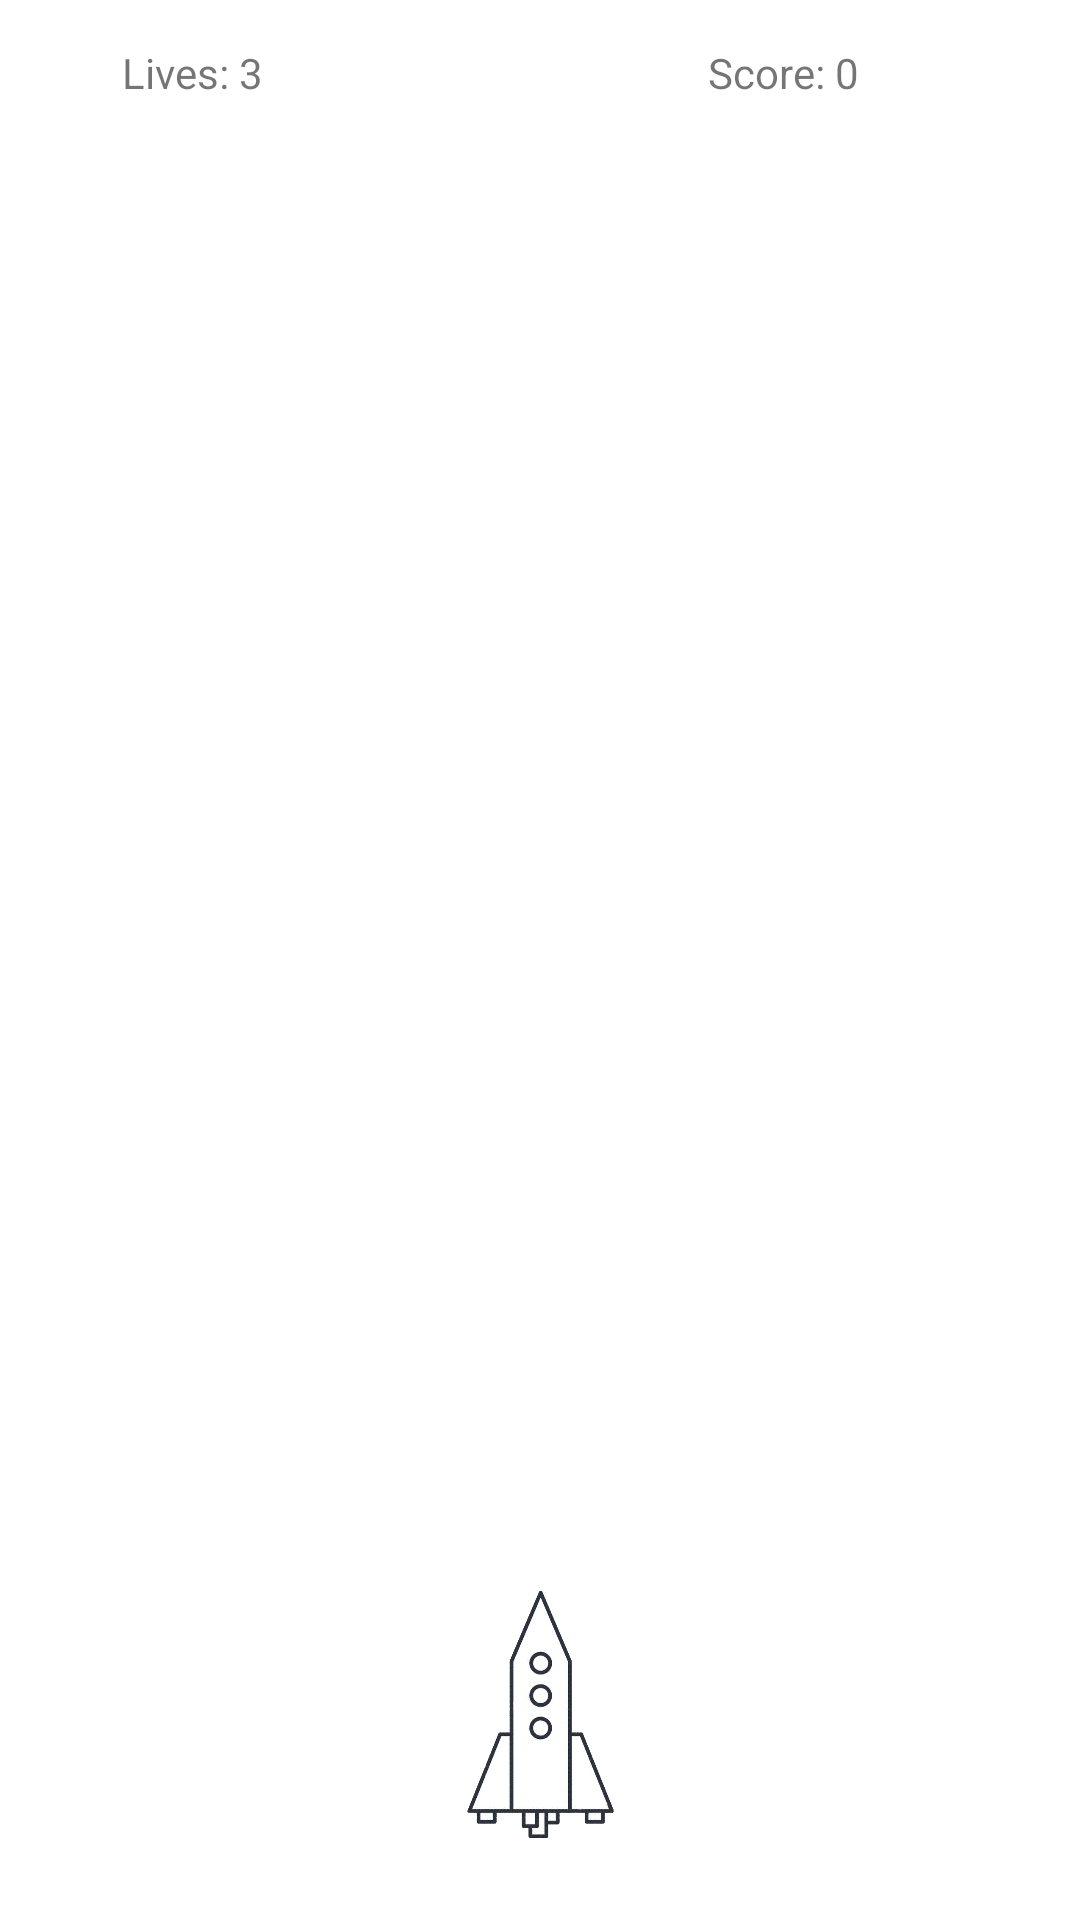

Screen size 1080×1920. Icon name, then its box in pixels as (x1,y1,x2,y2):
rocketfinal: (467,1591,614,1838)
